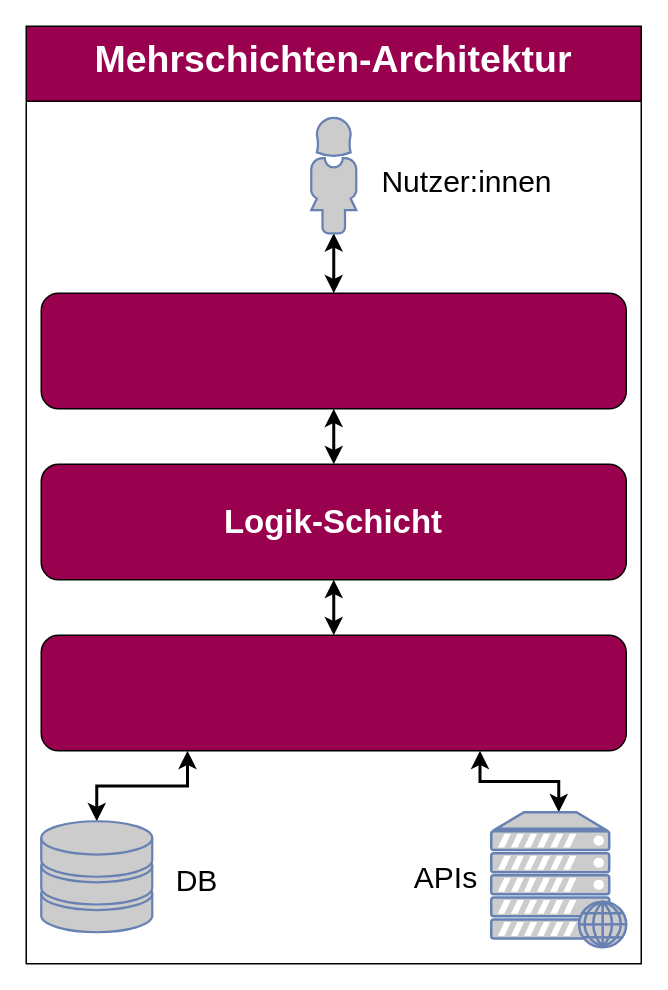
Some shapes in this 668 by 990 pixel diagram are drawn without their labels. Each missing label, with the box of its shape:
Benutzerinteraktions-Schicht: (40, 292, 626, 409)
Infrastruktur-Schicht: (40, 634, 626, 751)
